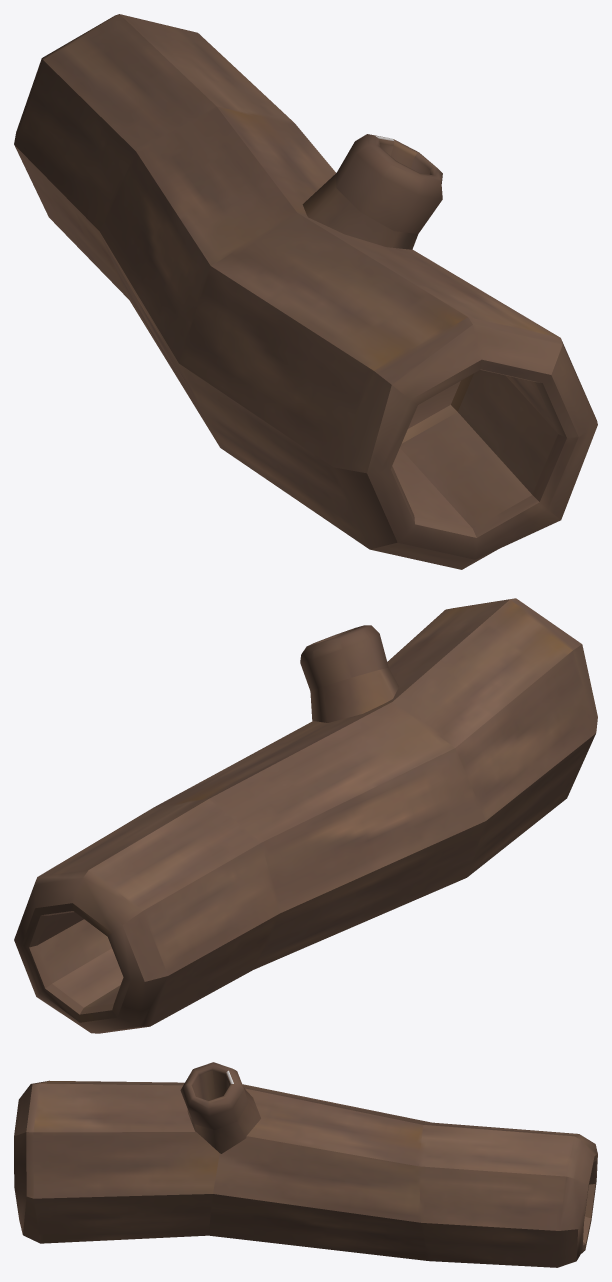
The model's file is tronco.fbx.
The picture shows the model from 3 angles, top to bottom: view 1: azimuth 30°, elevation 25°; view 2: azimuth 150°, elevation 25°; view 3: azimuth 270°, elevation 25°; orthographic projection. The views are drawn at different scales.
Parts seen in each view (by area): view 1: platformer mockup_toon_material_0.085; view 2: platformer mockup_toon_material_0.085; view 3: platformer mockup_toon_material_0.085.
Boxes of the visible parts, x1,y1,x2,y2 form: platformer mockup_toon_material_0.085: (14, 14, 597, 569); platformer mockup_toon_material_0.085: (14, 598, 597, 1033); platformer mockup_toon_material_0.085: (14, 1062, 597, 1267).
Bounding box in the file's own units: 90.12 × 84.19 × 233.
1 material, 1 textured.
